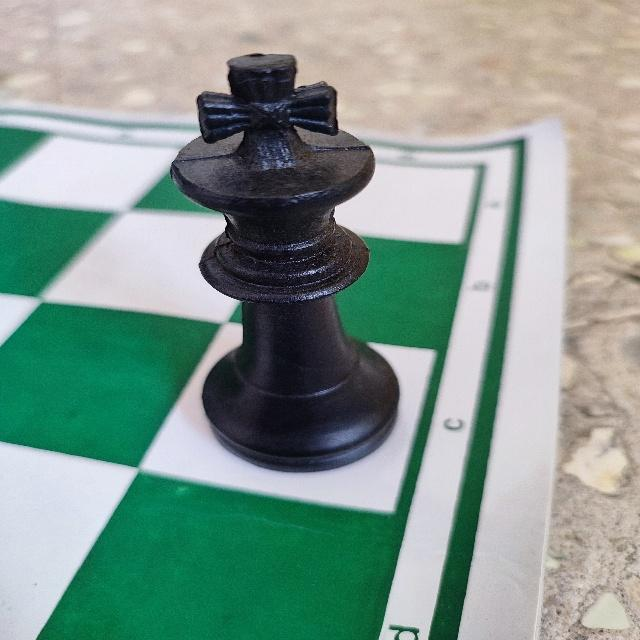King: (166, 51, 400, 472)
